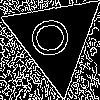O: (29, 14, 79, 60)
